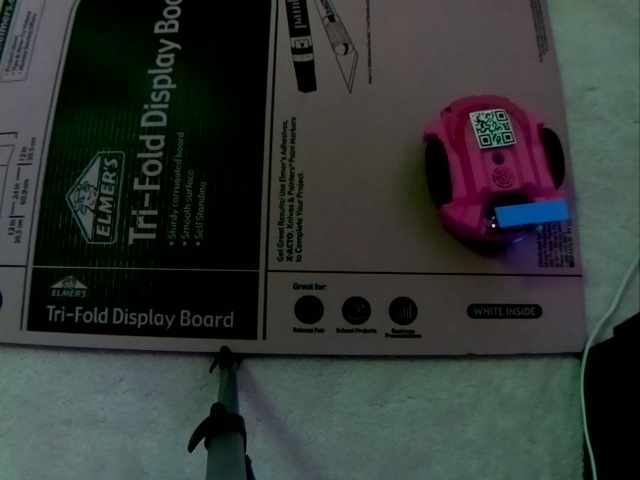board: (479, 194, 572, 232)
chassis: (420, 89, 571, 258)
